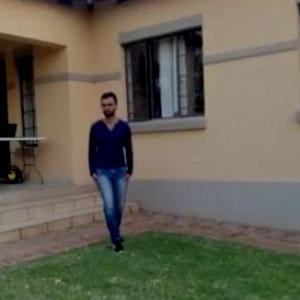follow: (86, 84, 136, 258)
